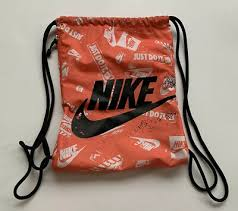nike: (63, 93, 188, 145)
